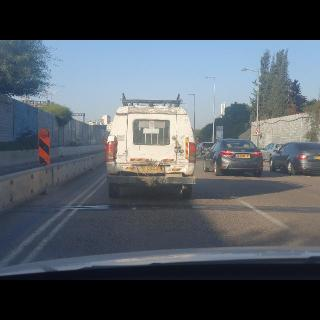LicensePlate: (140, 167, 164, 171), (238, 155, 250, 158)
